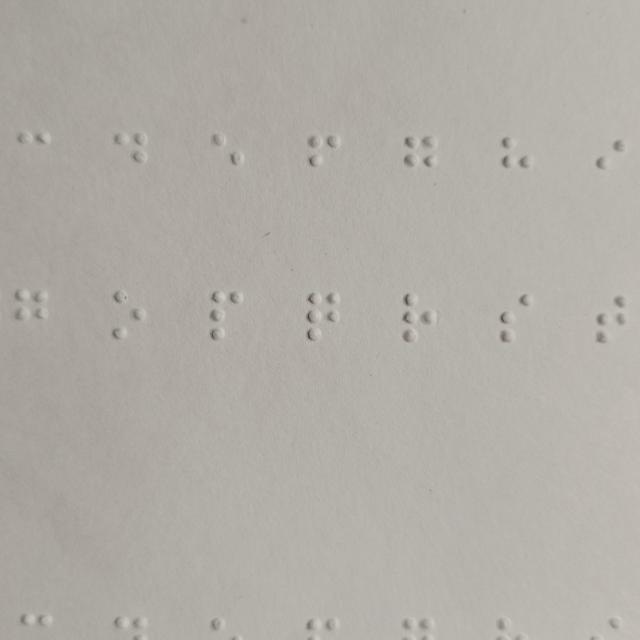c: (17, 131, 52, 181)
d: (113, 130, 147, 180)
e: (210, 133, 245, 183)
f: (308, 134, 343, 184)
g: (405, 135, 435, 185)
h: (501, 137, 532, 187)
i: (596, 138, 627, 188)
o: (114, 290, 145, 340)
p: (211, 290, 242, 340)
q: (306, 291, 341, 341)
r: (403, 294, 437, 344)
s: (499, 295, 534, 345)
t: (596, 295, 628, 345)
